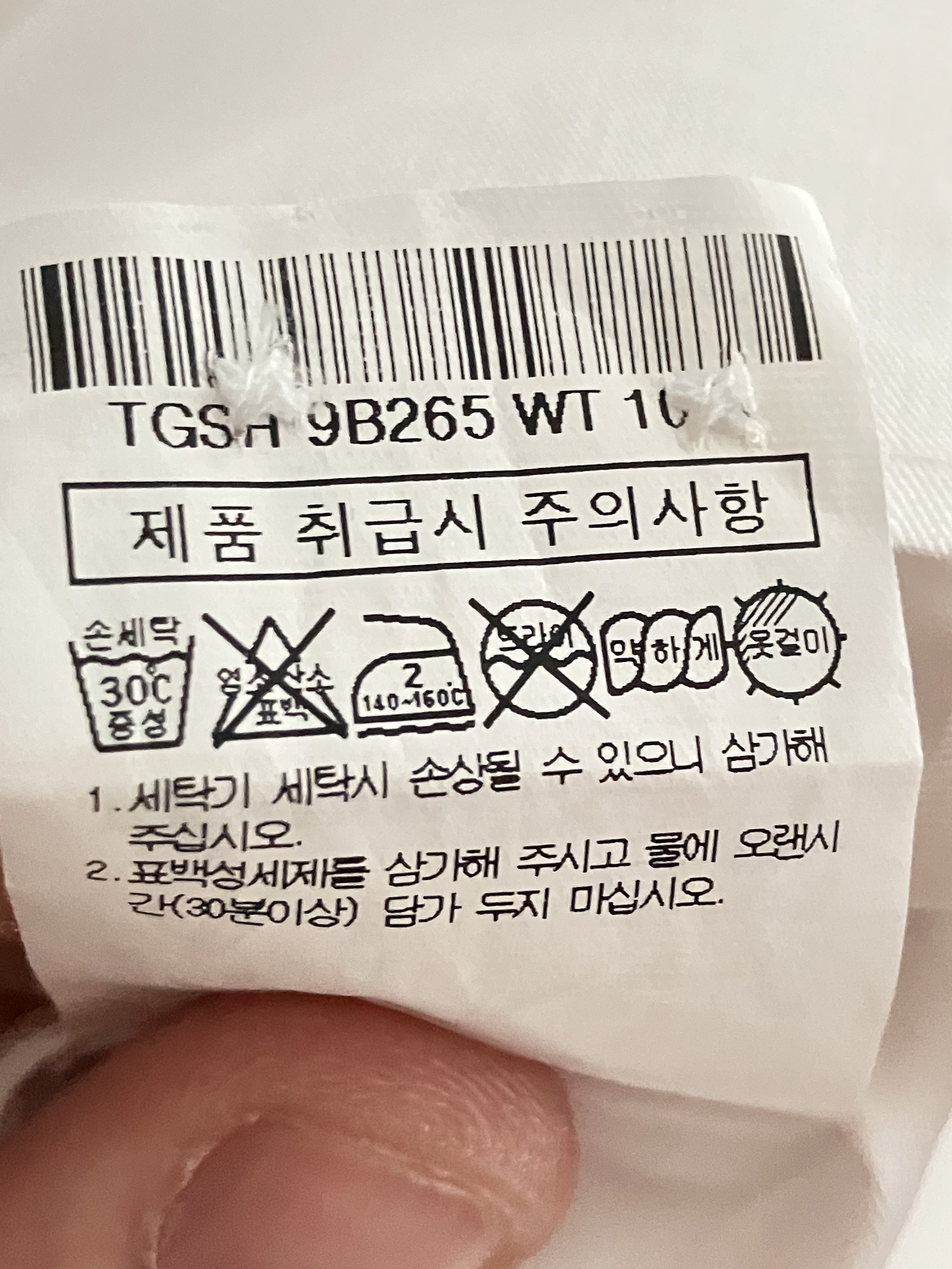KR_gentle_wring: (600, 598, 729, 699)
KR_hand_wash_30_neutral: (66, 608, 197, 760)
KR_hang_dry_in_shade: (726, 578, 849, 706)
KR_iron_medium_temp_with_cloth: (336, 597, 474, 742)
KR_no_bleach: (205, 605, 338, 754)
KR_no_dry_clean: (467, 584, 600, 720)
